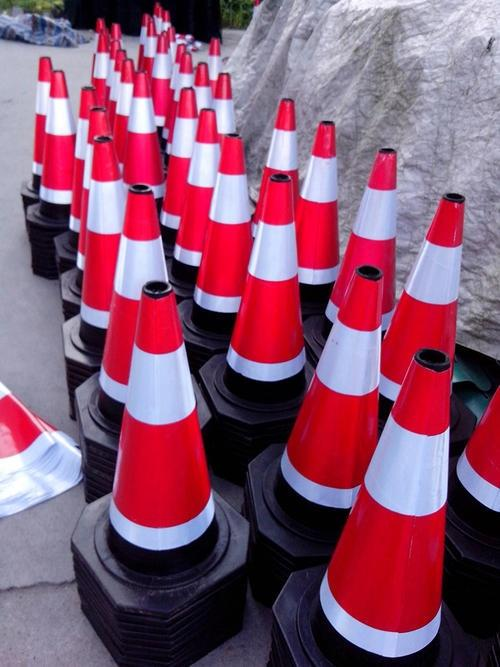cone_barrel: (315, 350, 463, 664), (100, 257, 225, 581), (262, 263, 385, 534), (214, 170, 311, 404), (377, 196, 477, 419), (90, 184, 173, 426), (325, 153, 403, 346), (187, 132, 252, 334), (68, 133, 127, 349), (168, 107, 219, 286), (290, 122, 343, 285), (449, 386, 499, 554), (26, 64, 76, 216), (119, 73, 166, 213), (158, 86, 200, 242), (252, 99, 300, 232), (149, 33, 173, 130), (211, 71, 240, 136), (88, 25, 111, 101)
